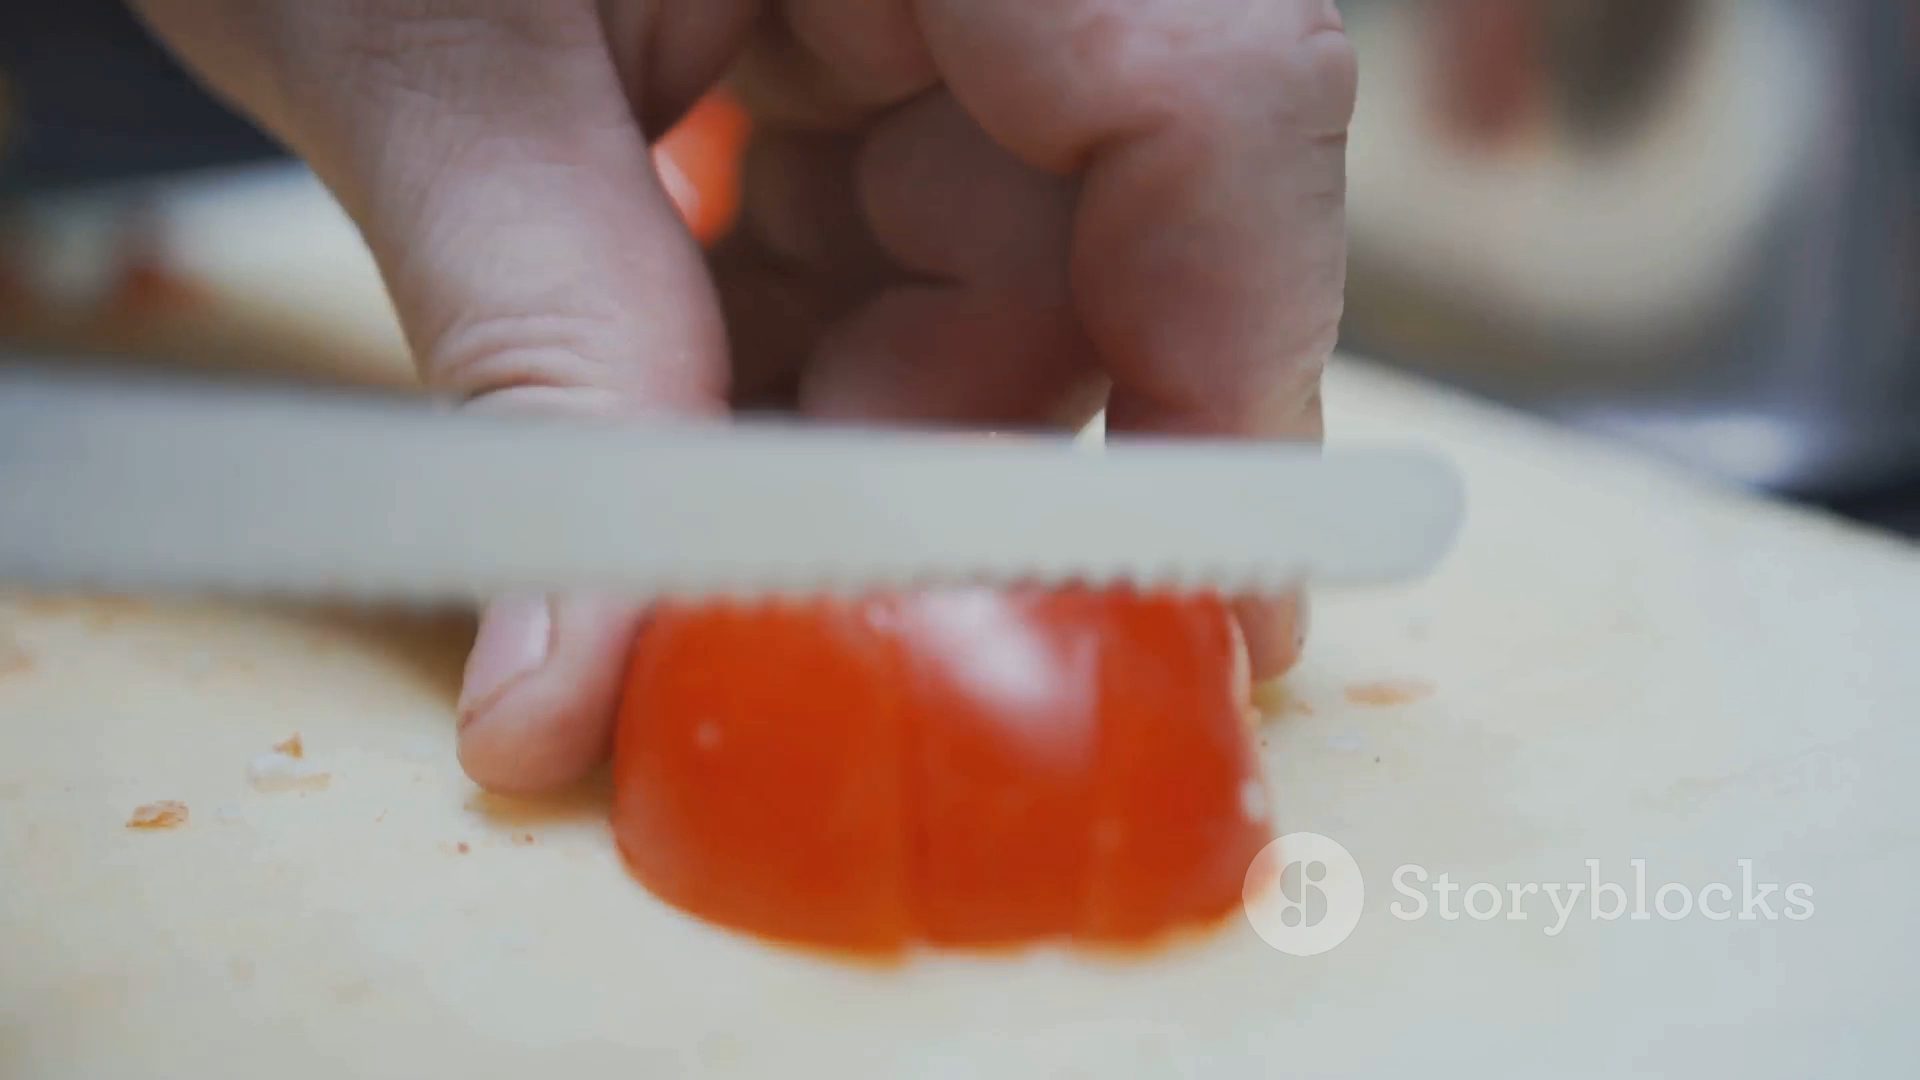cortante: (0, 368, 1470, 600)
